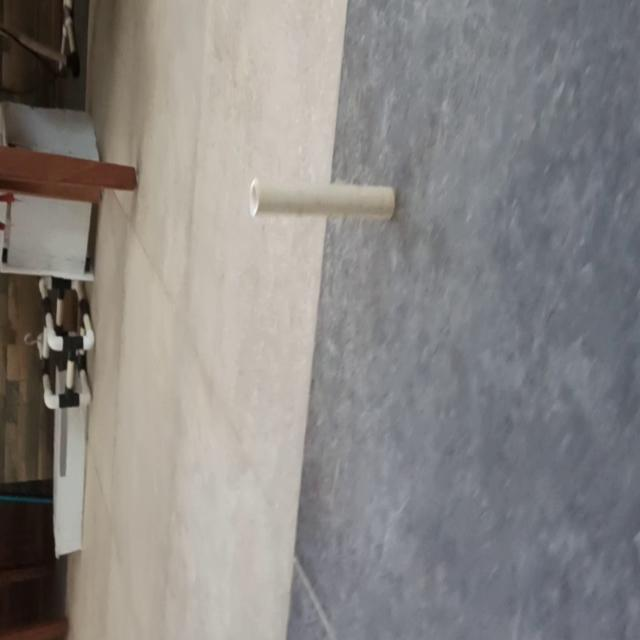Cube: (246, 175, 396, 225)
